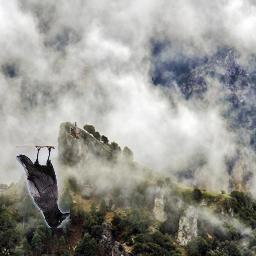Crow: (16, 146, 70, 228)
Cuckoo: (71, 123, 84, 140)
